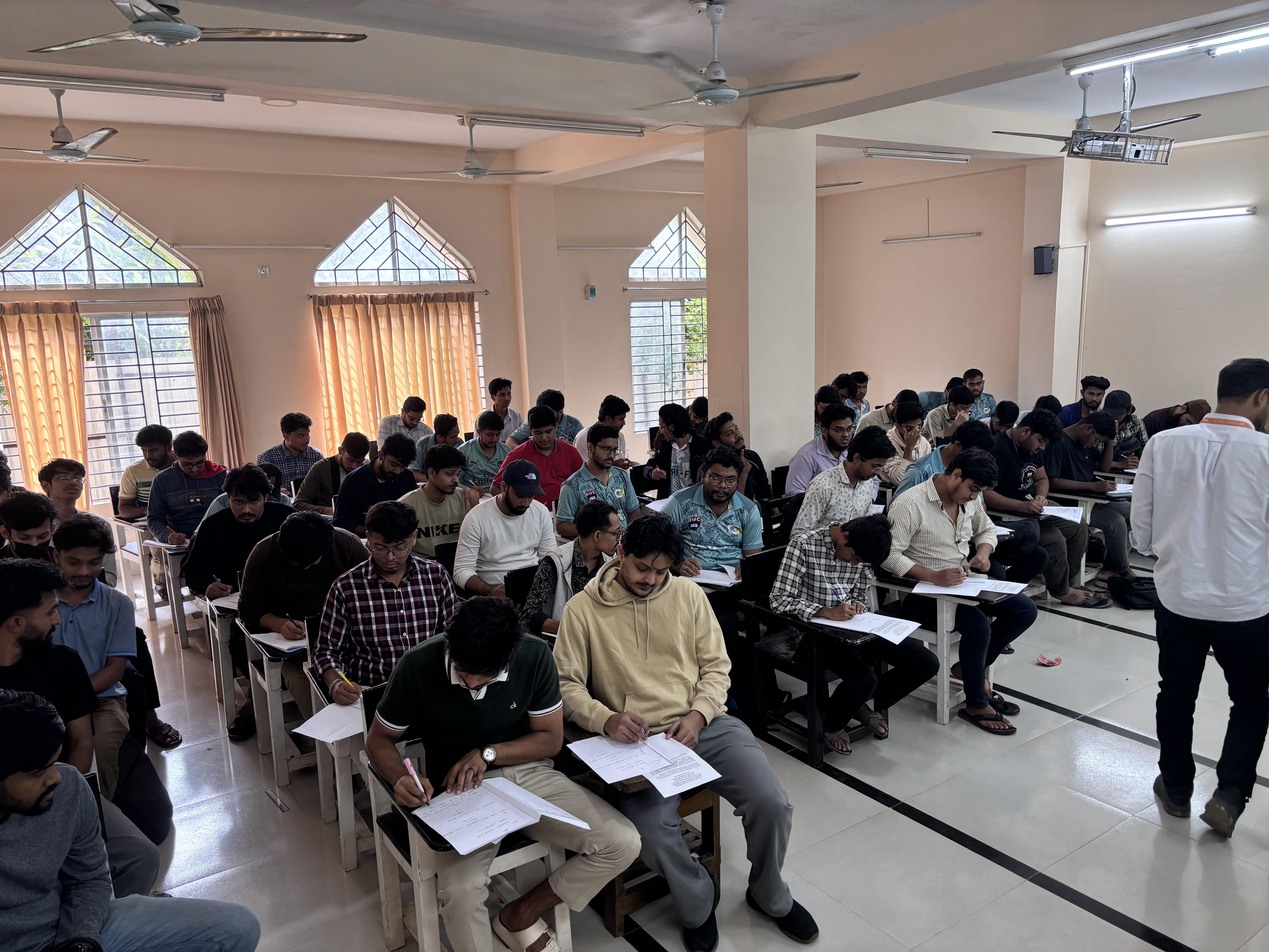copying: (0, 693, 265, 952), (531, 502, 624, 601), (112, 421, 179, 527), (649, 394, 695, 492)
invigilator: (1132, 334, 1269, 839)
no_cheating: (385, 594, 561, 899), (603, 516, 740, 817), (324, 501, 448, 721), (906, 448, 1014, 629), (774, 512, 910, 654), (235, 507, 359, 661), (48, 510, 132, 689), (183, 464, 284, 612), (457, 457, 553, 607), (659, 446, 762, 579), (988, 406, 1076, 557), (562, 421, 644, 527), (1058, 400, 1117, 501), (415, 447, 475, 546), (507, 407, 579, 488), (836, 426, 900, 517), (157, 429, 214, 519), (0, 484, 59, 570), (312, 428, 371, 510), (360, 434, 422, 512), (262, 406, 323, 483), (808, 397, 862, 478), (38, 452, 97, 516), (375, 391, 439, 449), (701, 403, 760, 457), (465, 407, 514, 470), (889, 403, 935, 468), (934, 382, 975, 454), (954, 359, 999, 422), (421, 404, 472, 458), (1070, 368, 1116, 420), (482, 369, 522, 421)
side_talking: (0, 556, 86, 740)
